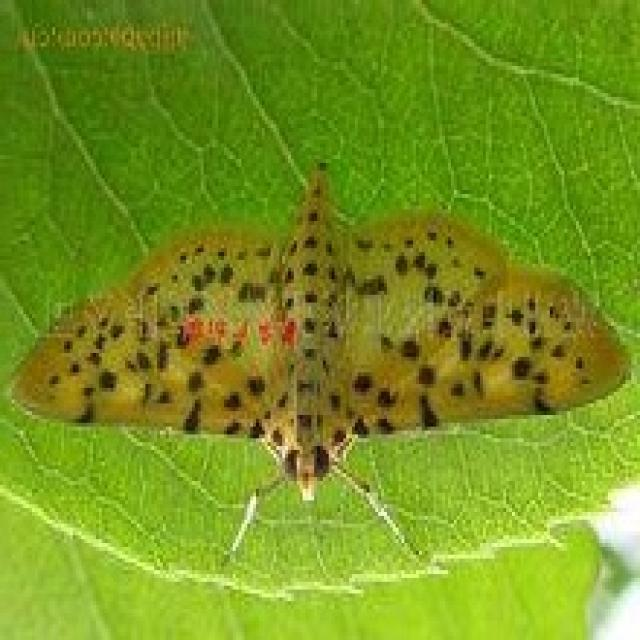peach borer: (10, 160, 632, 509)
